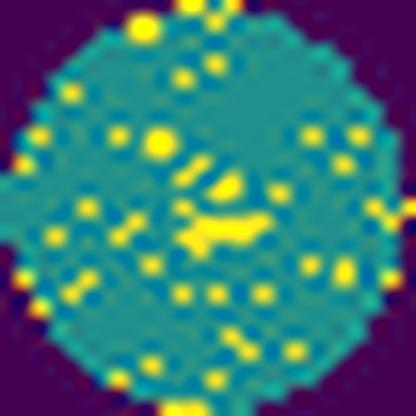Center: (170, 190, 280, 264)
